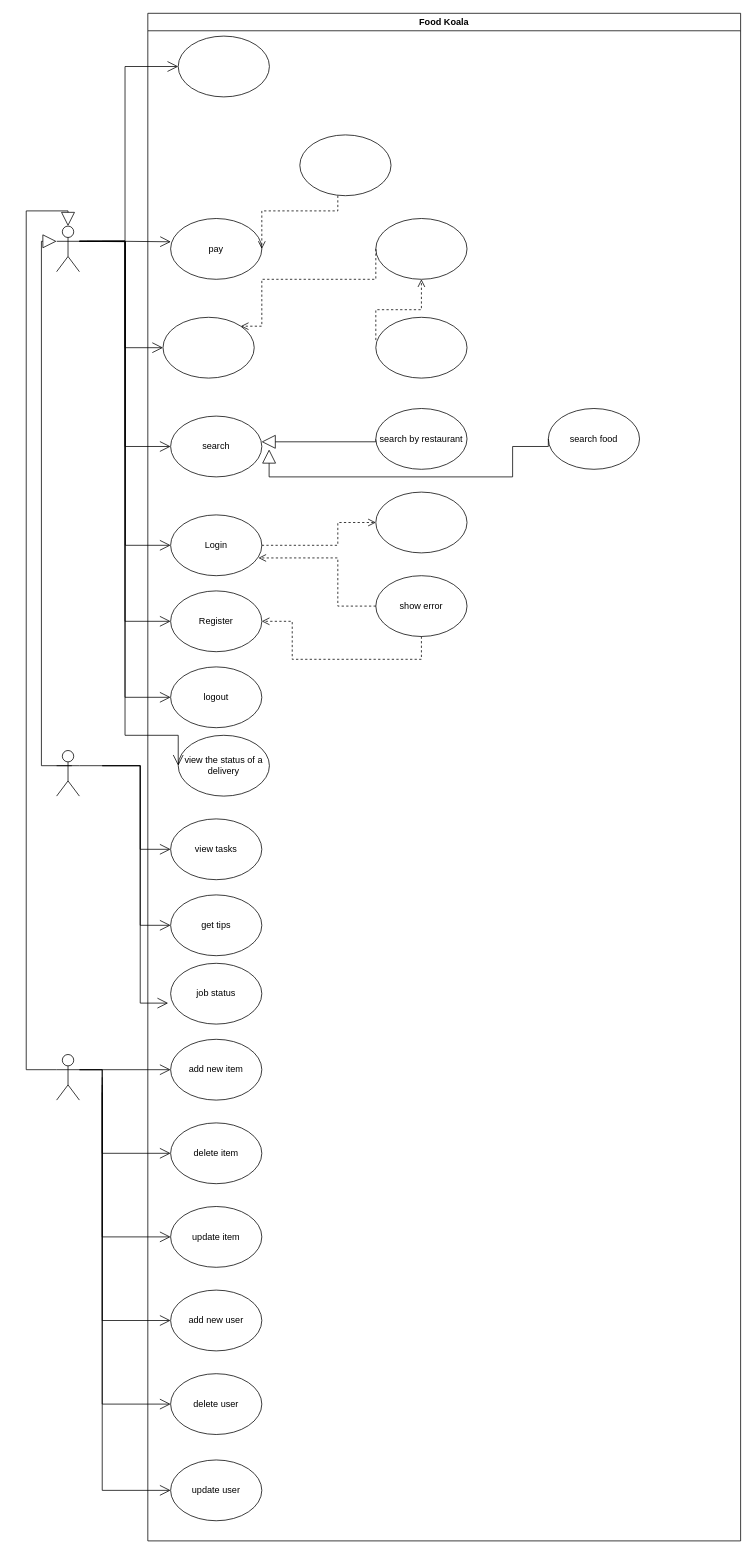
Some shapes in this 754 by 1554 pixel diagram are drawn without their labels. Each missing label, with the box of its shape:
add cart: (375, 218, 467, 279)
Admin: (56, 1054, 79, 1100)
check creditations: (375, 491, 467, 553)
Client: (56, 225, 79, 272)
Delivery Guy: (56, 750, 79, 796)
give tips: (299, 134, 391, 196)
place delivery: (375, 317, 467, 378)
select item: (162, 317, 254, 378)
view recomandations: (177, 35, 269, 97)
